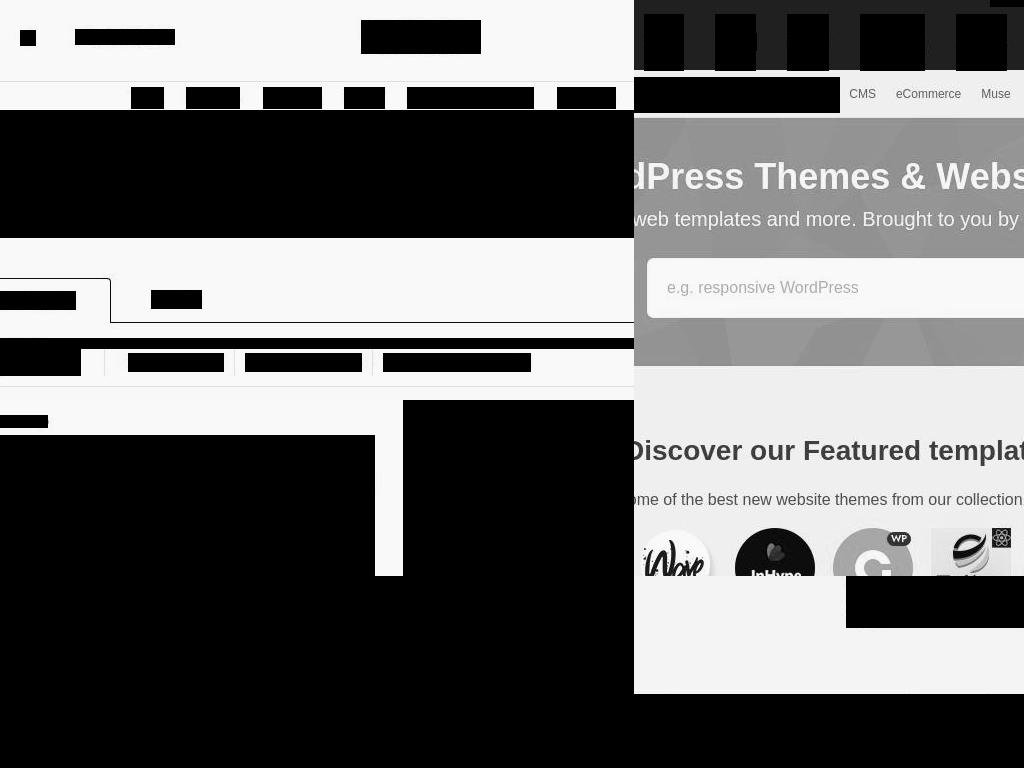button: (0, 576, 634, 768), (406, 402, 634, 576), (846, 576, 1024, 628), (361, 20, 481, 54), (860, 14, 925, 71), (885, 77, 972, 113), (956, 14, 1007, 71), (383, 353, 531, 372), (407, 87, 534, 109), (766, 77, 840, 113), (787, 14, 829, 71), (715, 14, 756, 71), (644, 14, 684, 71), (245, 353, 362, 372), (653, 77, 714, 113), (0, 349, 81, 376), (713, 77, 767, 113), (128, 353, 224, 372), (971, 77, 1021, 113), (839, 77, 886, 113), (75, 29, 175, 45), (263, 87, 322, 109), (557, 87, 616, 109), (186, 87, 240, 109), (344, 87, 385, 109), (131, 87, 164, 109), (634, 77, 654, 113), (20, 30, 36, 46)
field: (647, 258, 1024, 319)
heading: (0, 435, 375, 576), (634, 150, 1024, 205), (634, 430, 1024, 473), (634, 204, 1024, 235), (0, 636, 170, 690), (0, 338, 634, 349), (400, 353, 485, 372), (262, 353, 318, 372), (491, 353, 531, 372), (186, 353, 224, 372), (324, 353, 362, 372), (0, 354, 42, 371), (145, 353, 180, 372), (52, 358, 61, 367)
image: (0, 576, 634, 768), (634, 118, 1024, 367), (403, 400, 634, 576), (634, 694, 1024, 768), (637, 528, 717, 576), (735, 528, 815, 576), (833, 528, 913, 576), (931, 528, 1011, 576), (361, 20, 466, 54), (75, 29, 175, 45), (20, 30, 36, 46)
link: (0, 291, 76, 310), (0, 602, 74, 619)
text: (0, 110, 634, 238), (0, 687, 449, 744), (634, 488, 1024, 513), (885, 580, 1017, 614), (860, 33, 925, 51), (151, 290, 202, 309), (956, 33, 1007, 51), (715, 33, 757, 51), (787, 33, 829, 51), (644, 33, 683, 51), (0, 415, 48, 428)
